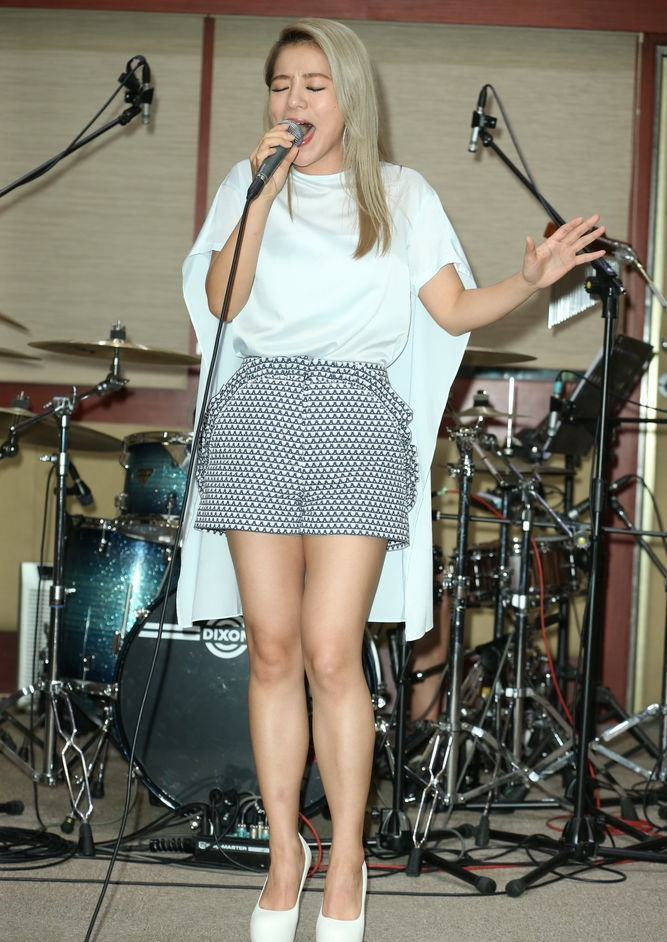face: (268, 43, 339, 161)
